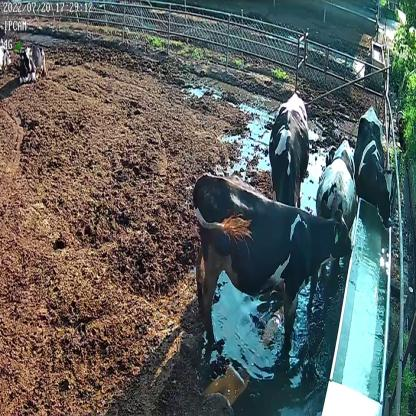cow: (192, 172, 354, 360), (352, 104, 398, 232), (268, 91, 310, 206), (314, 137, 358, 231), (18, 39, 48, 85)
